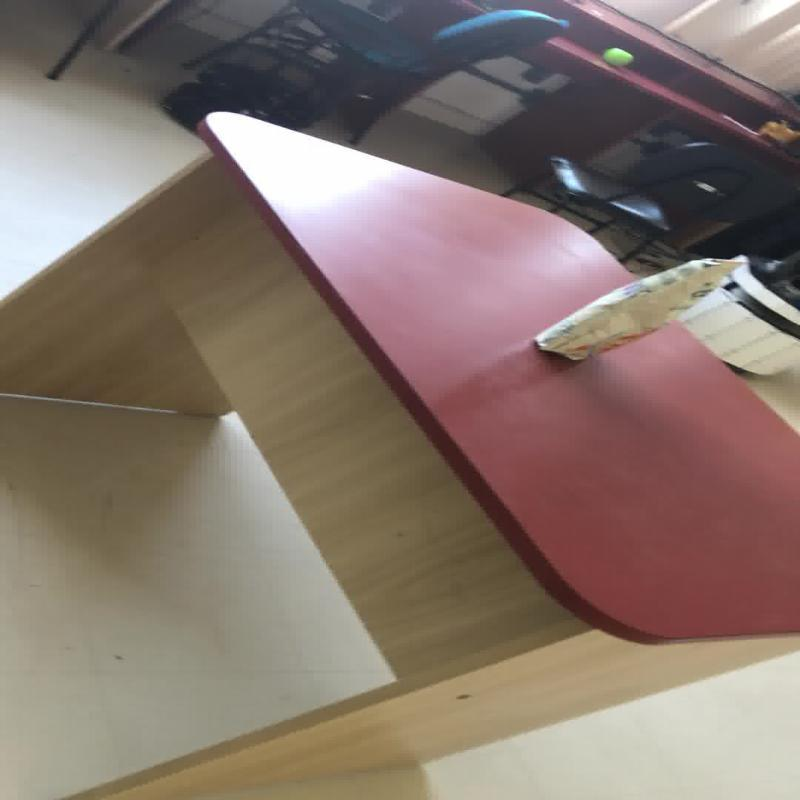corn flakes: (530, 253, 748, 361)
